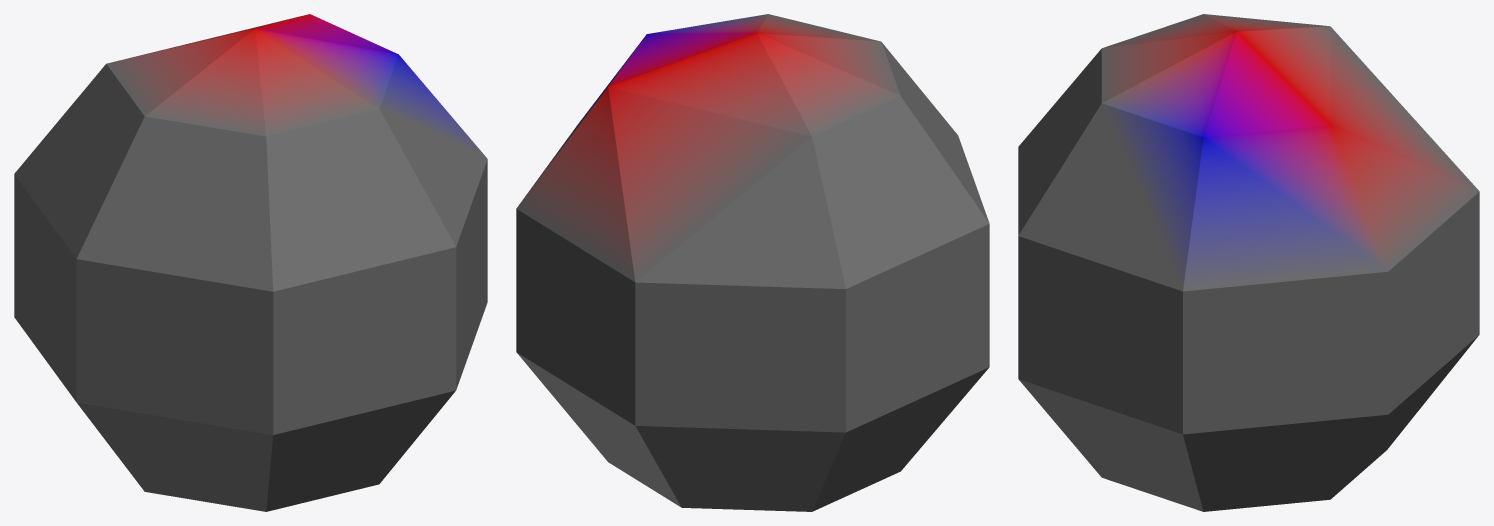
Rendered from before_retriangulation_1.obj.
3 renders of one model, left to right at view 1: azimuth 30°, elevation 25°; view 2: azimuth 150°, elevation 25°; view 3: azimuth 270°, elevation 25°, orthographic.
Bounding box in the file's own units: 1.85 × 2 × 1.81.
